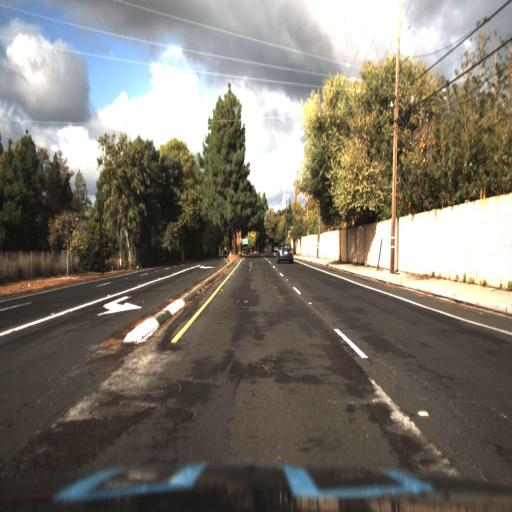car: (272, 243, 295, 267)
